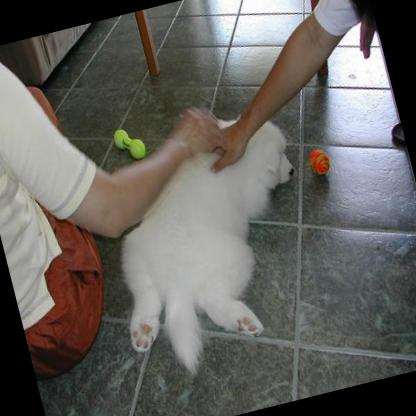Samoyed: (79, 99, 337, 386)
